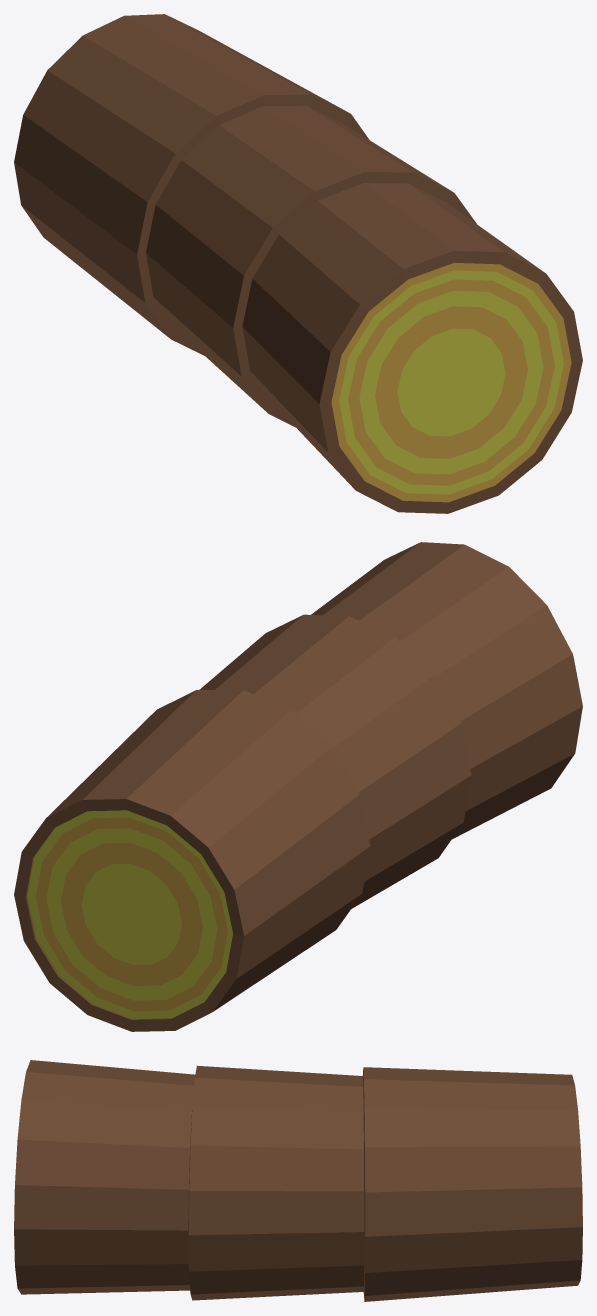
Rendered from PalmWood.fbx.
3 renders of one model, top to bottom at view 1: azimuth 30°, elevation 25°; view 2: azimuth 150°, elevation 25°; view 3: azimuth 270°, elevation 25°, orthographic. The views are drawn at different scales.
Parts seen in each view (by area): view 1: palm_log; view 2: palm_log; view 3: palm_log.
Boxes of the visible parts, bbox=[...] form: palm_log: bbox=[14, 14, 582, 513]; palm_log: bbox=[14, 542, 582, 1031]; palm_log: bbox=[14, 1060, 582, 1301].
Size of the model in its own units: 16.23 by 15.24 by 36.79.
